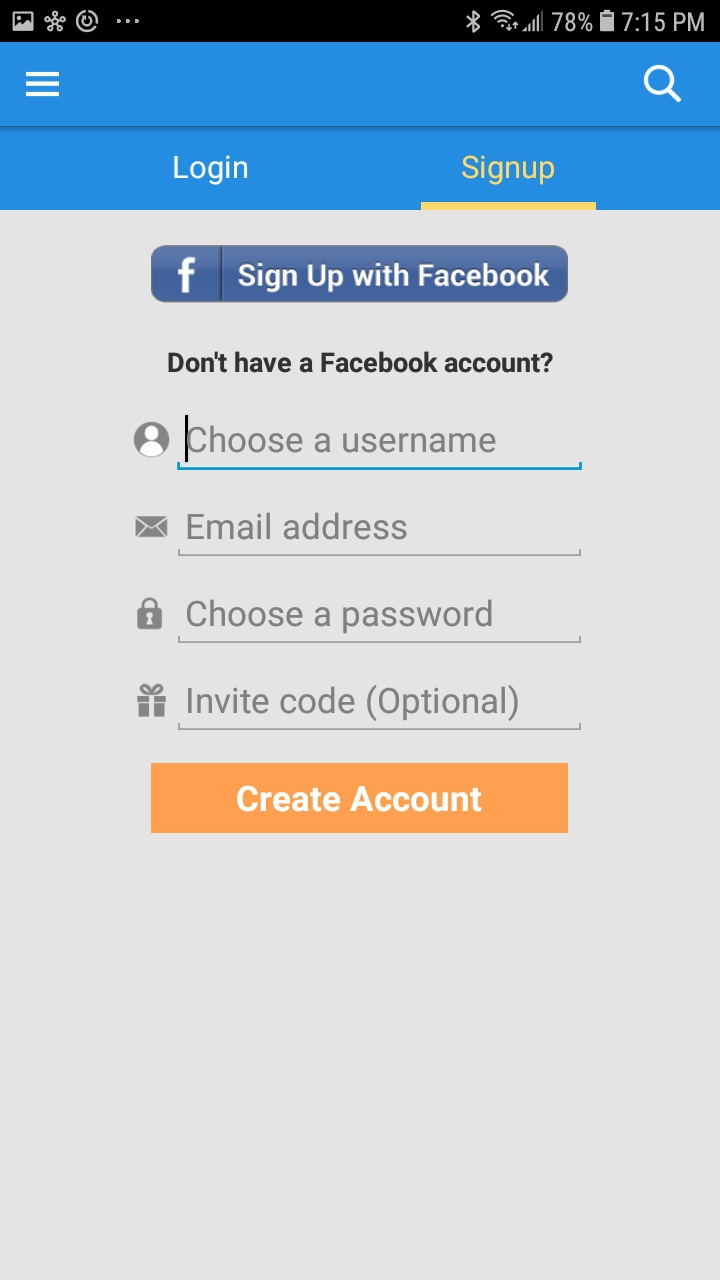EditText: (177, 412, 583, 471), (178, 685, 582, 731), (178, 512, 582, 557), (179, 599, 582, 644)
Icon: (643, 65, 682, 104), (134, 422, 171, 458), (137, 683, 168, 718), (27, 72, 61, 98), (137, 598, 163, 630), (136, 515, 169, 538)
Text: (187, 685, 519, 722), (188, 600, 493, 635), (168, 351, 554, 374), (187, 426, 497, 454), (188, 512, 408, 540), (461, 155, 555, 186), (174, 155, 249, 187)
TextButton: (151, 763, 568, 834), (152, 245, 569, 303)
UpperTaskBar: (1, 1, 720, 43)
